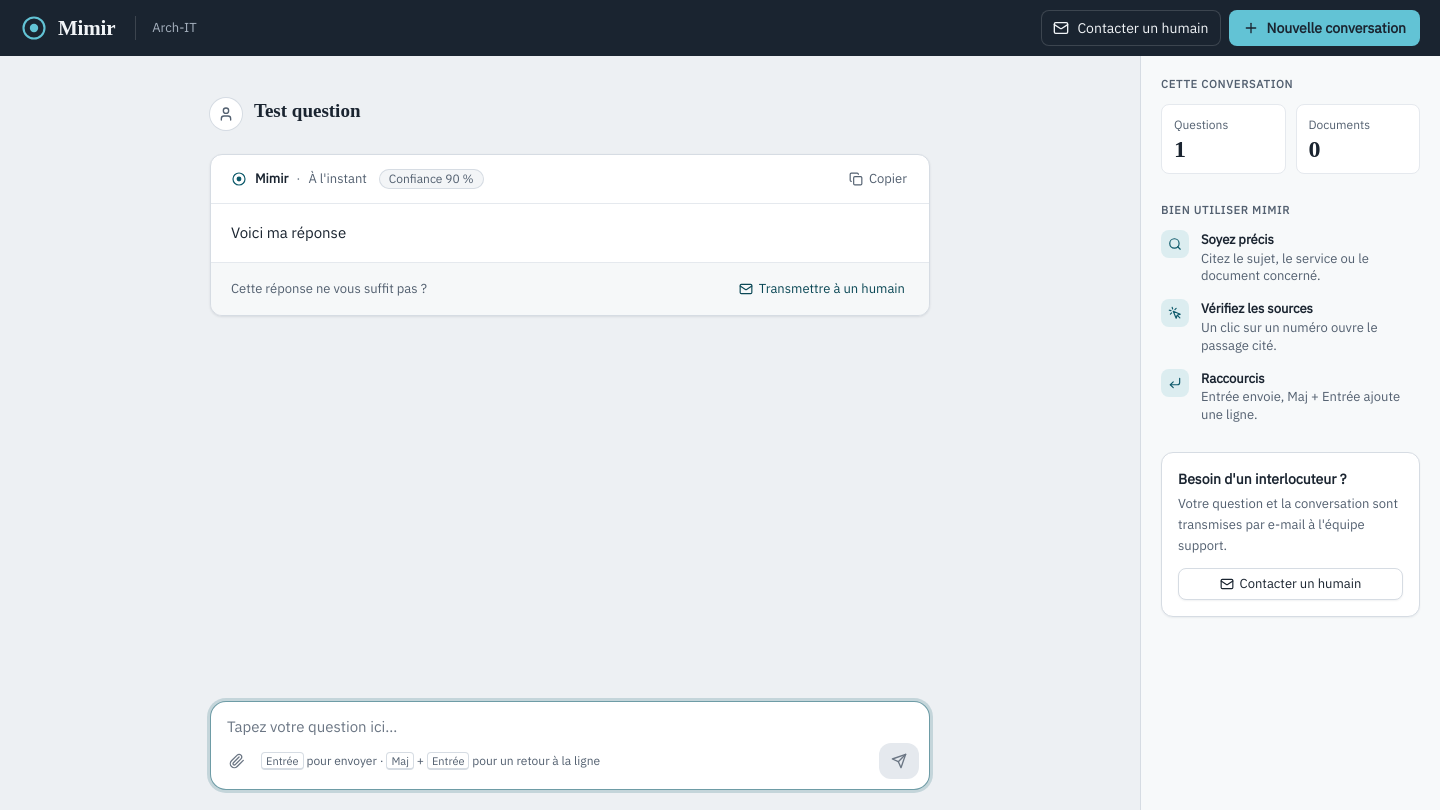
Test: ChatPage › affiche une erreur en cas de problème API
Type "Test question" into the text box with placeholder "Tapez votre question ici…".
click(570, 720); type("Test question")  # box [211,702,929,739]
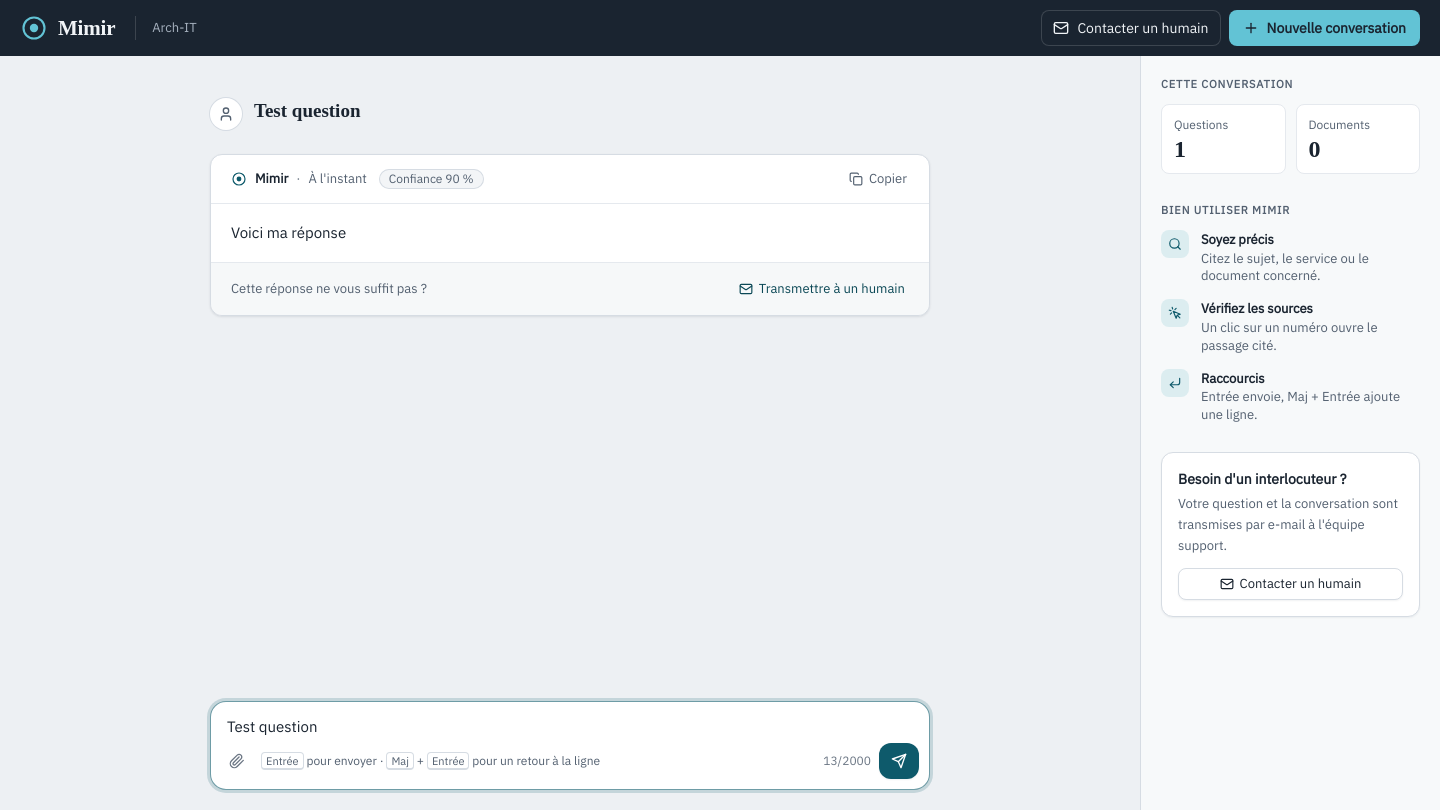
Click the button titled "Envoyer le message".
click(899, 761)  # box [879,743,919,779]
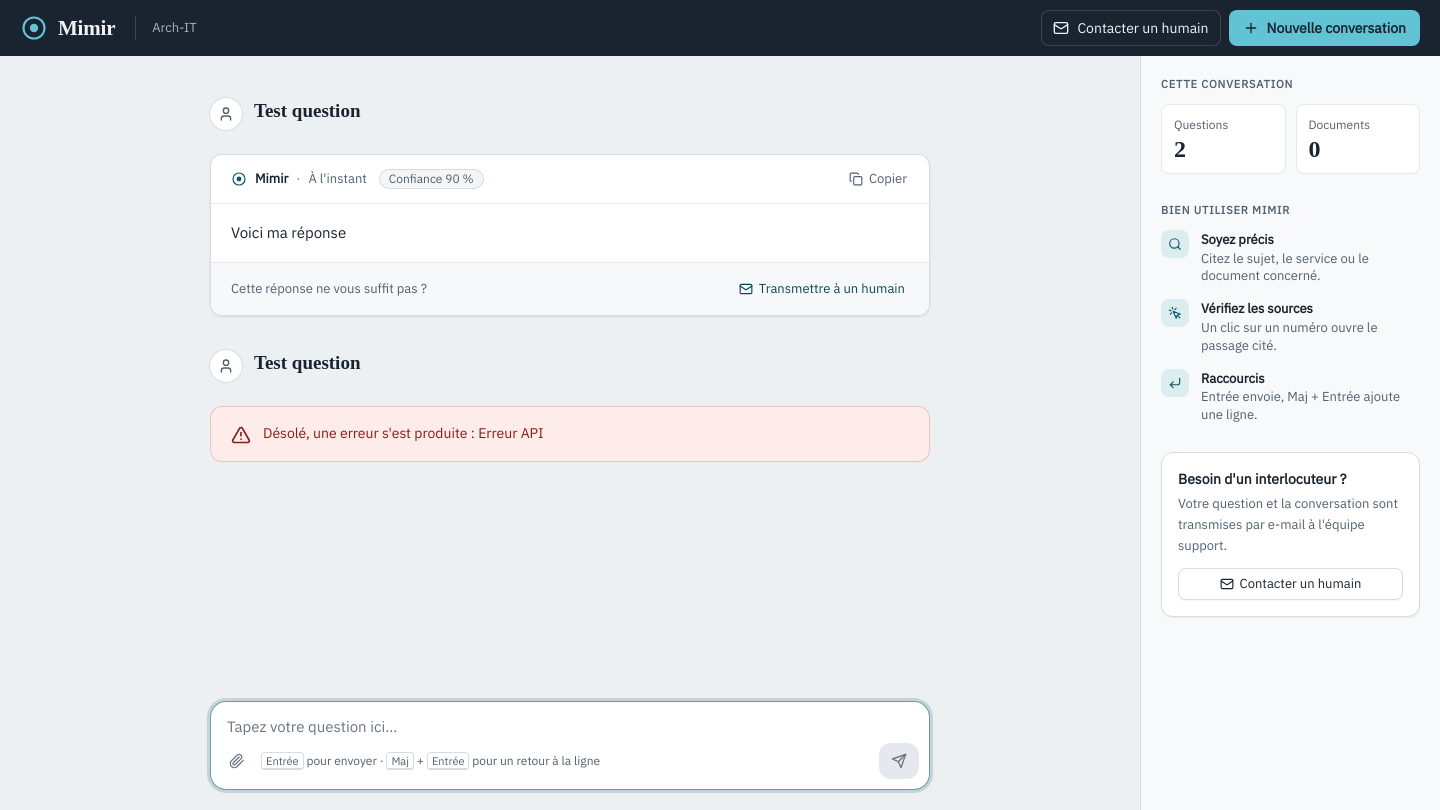
Expected: the text "Désolé, une erreur s'est produite : Erreur API" is shown, [263,424,544,442]
